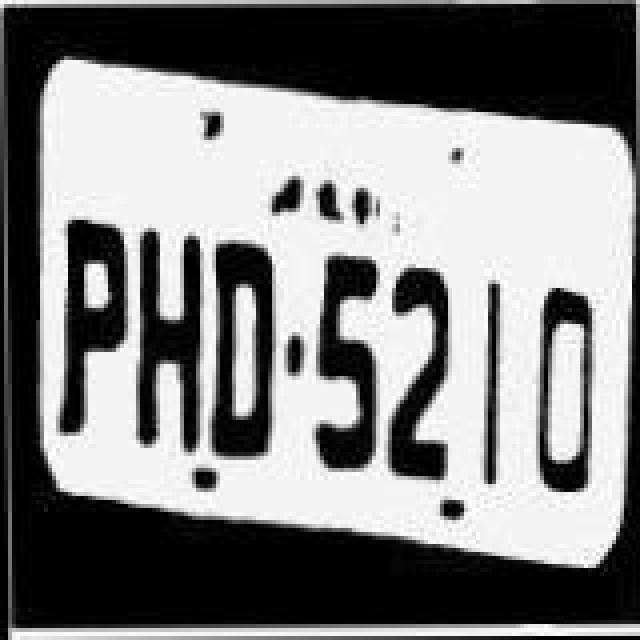1: (468, 252, 516, 496)
2: (382, 234, 458, 490)
5: (298, 224, 382, 476)
D: (192, 220, 280, 480)
H: (128, 214, 208, 474)
O: (522, 256, 606, 504)
P: (56, 214, 136, 474)
